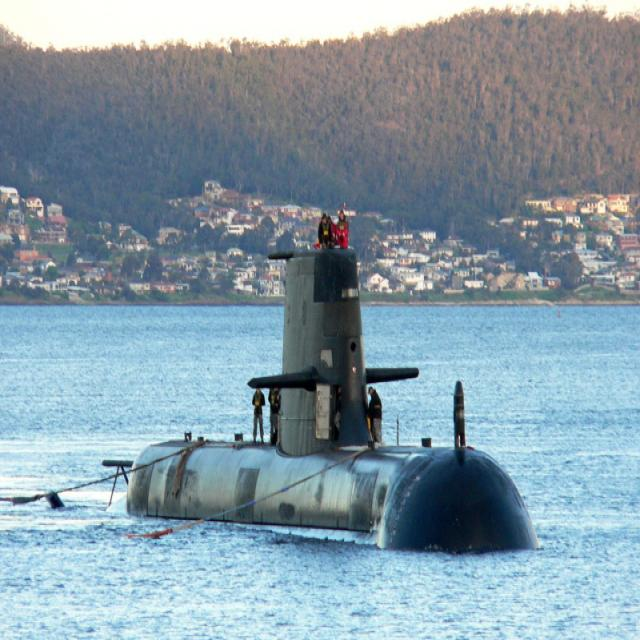submarine: (101, 254, 547, 558)
